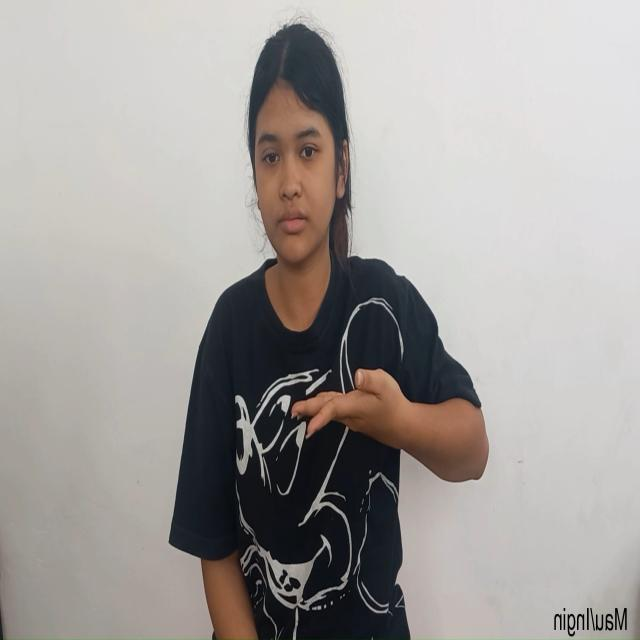Mau-Ingin -BISINDO-: (289, 351, 503, 501)
